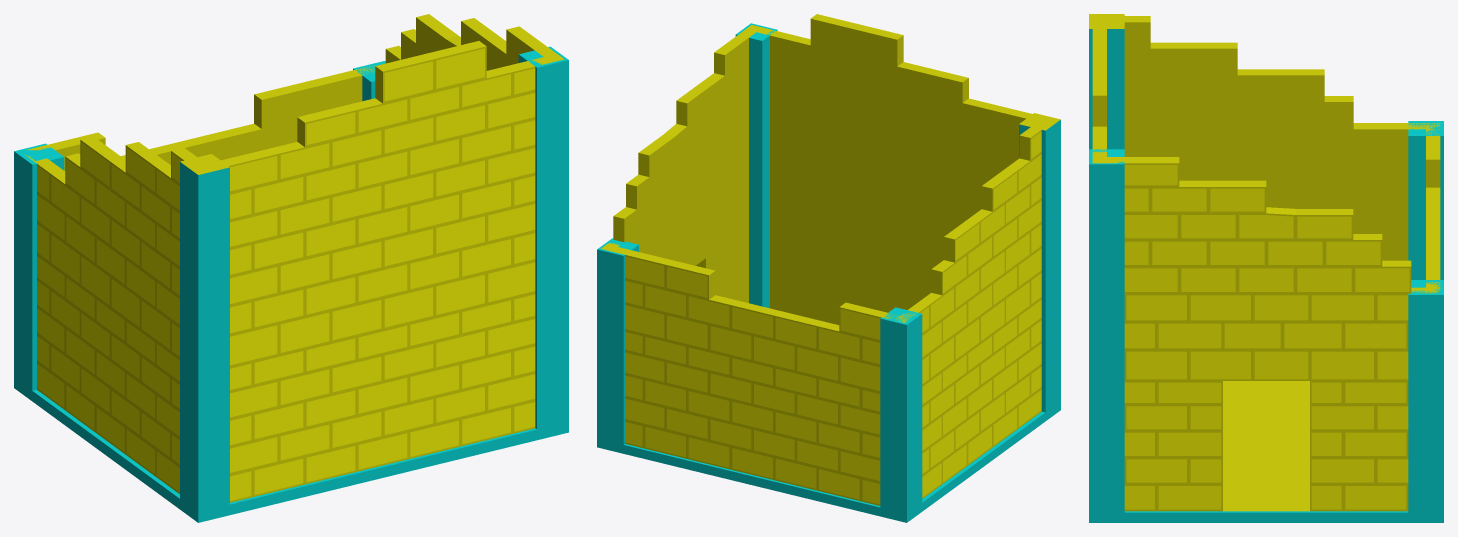
Rendered from CollapseBuildingBottom.fbx.
3 renders of one model, left to right at view 1: azimuth 30°, elevation 25°; view 2: azimuth 150°, elevation 25°; view 3: azimuth 270°, elevation 25°, orthographic. The views are drawn at different scales.
Parts seen in each view (by area): view 1: CollapseBuildingBottom; view 2: CollapseBuildingBottom; view 3: CollapseBuildingBottom.
Part boxes in pixels (x1,y1,x2,y2): CollapseBuildingBottom: (14, 14, 568, 522); CollapseBuildingBottom: (597, 14, 1060, 522); CollapseBuildingBottom: (1089, 14, 1443, 522).
Bounding box in the file's own units: 11.29 × 11.77 × 9.72.
